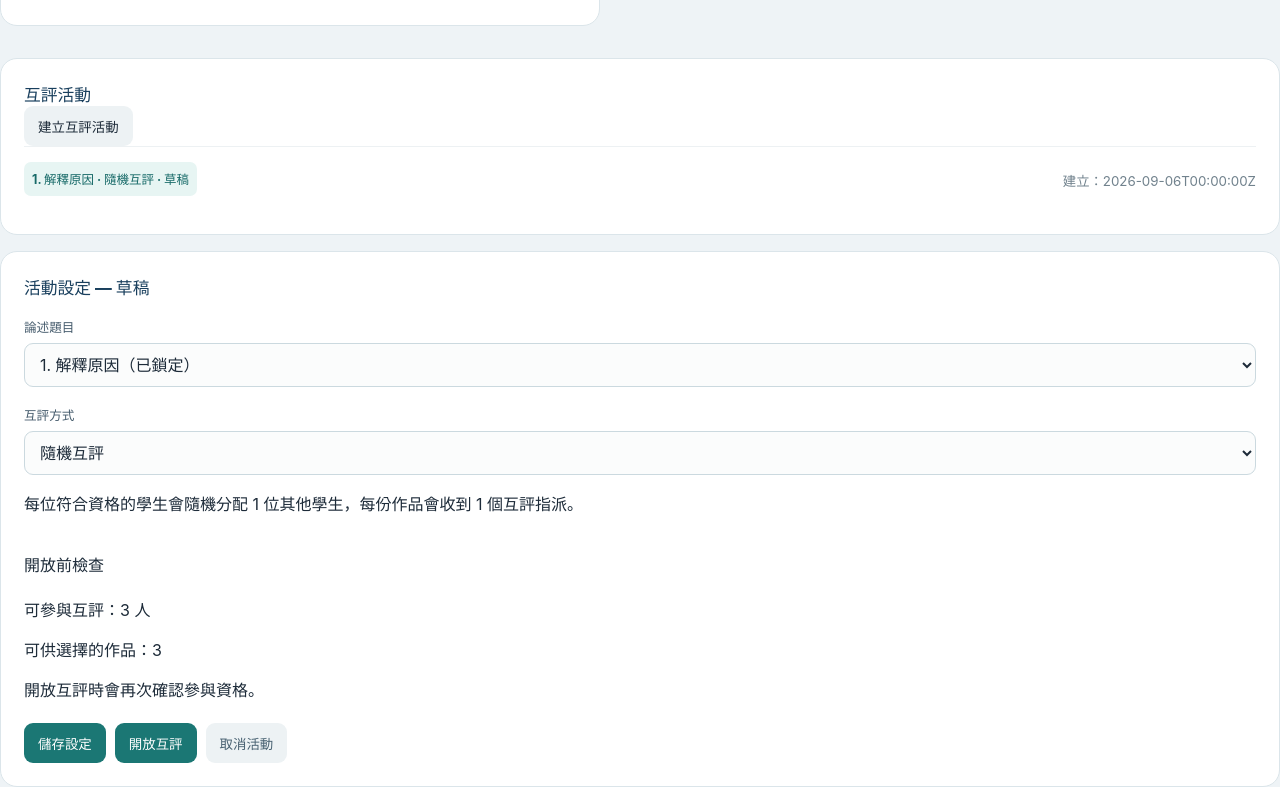
Test: Teacher Peer Review setup › cancels DRAFT and refreshes ended sessions as read-only
(page scrolled)
Expected: the dropdown labelled "互評方式" is shown, [24,431,1256,475]
What coordinates should you click on to do the following:
click the button "取消活動"
I would click on:
 (246, 743)
Its box is [206,723,287,763].
(page scrolled)
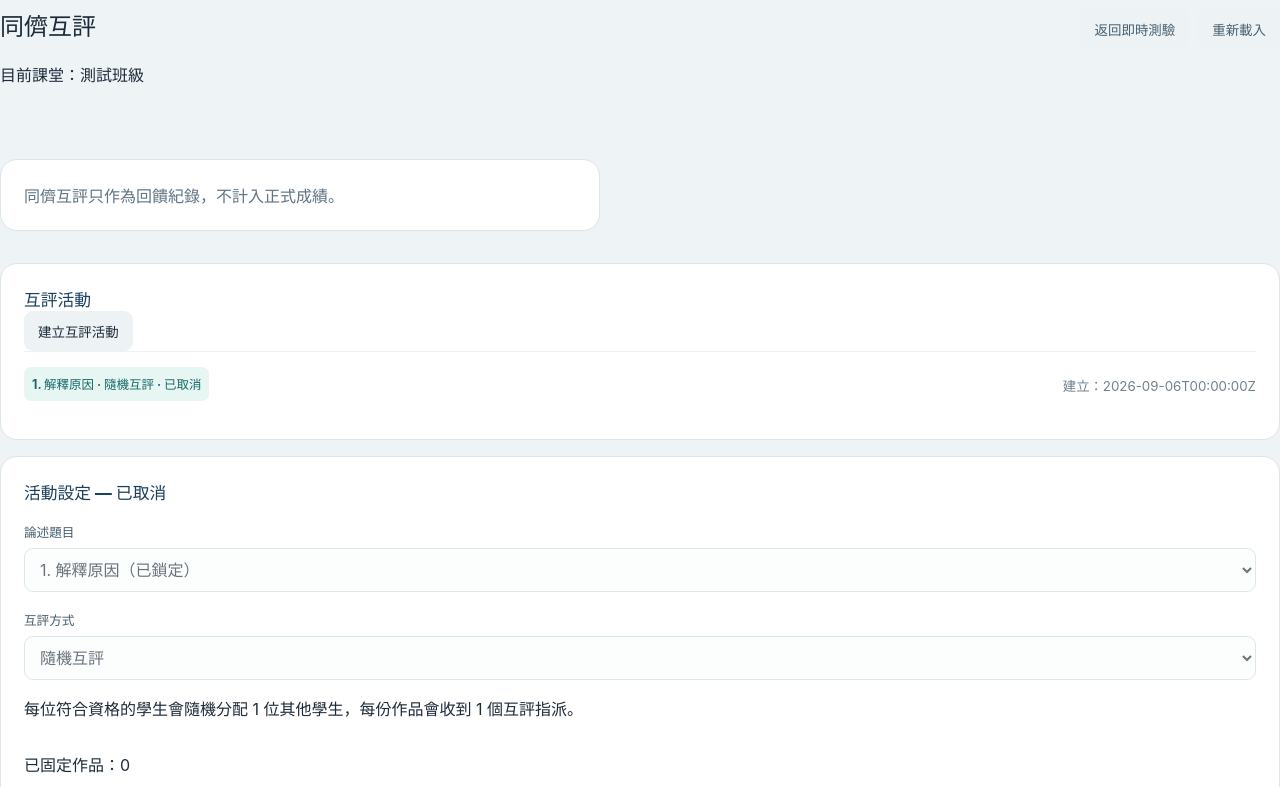
Result: the heading "活動設定 — 已取消" is shown at [24,483,166,503]
What coordinates should you click on to do the following:
click the button "重新載入"
I would click on:
 (1239, 29)
Its box is [1198,9,1279,49].
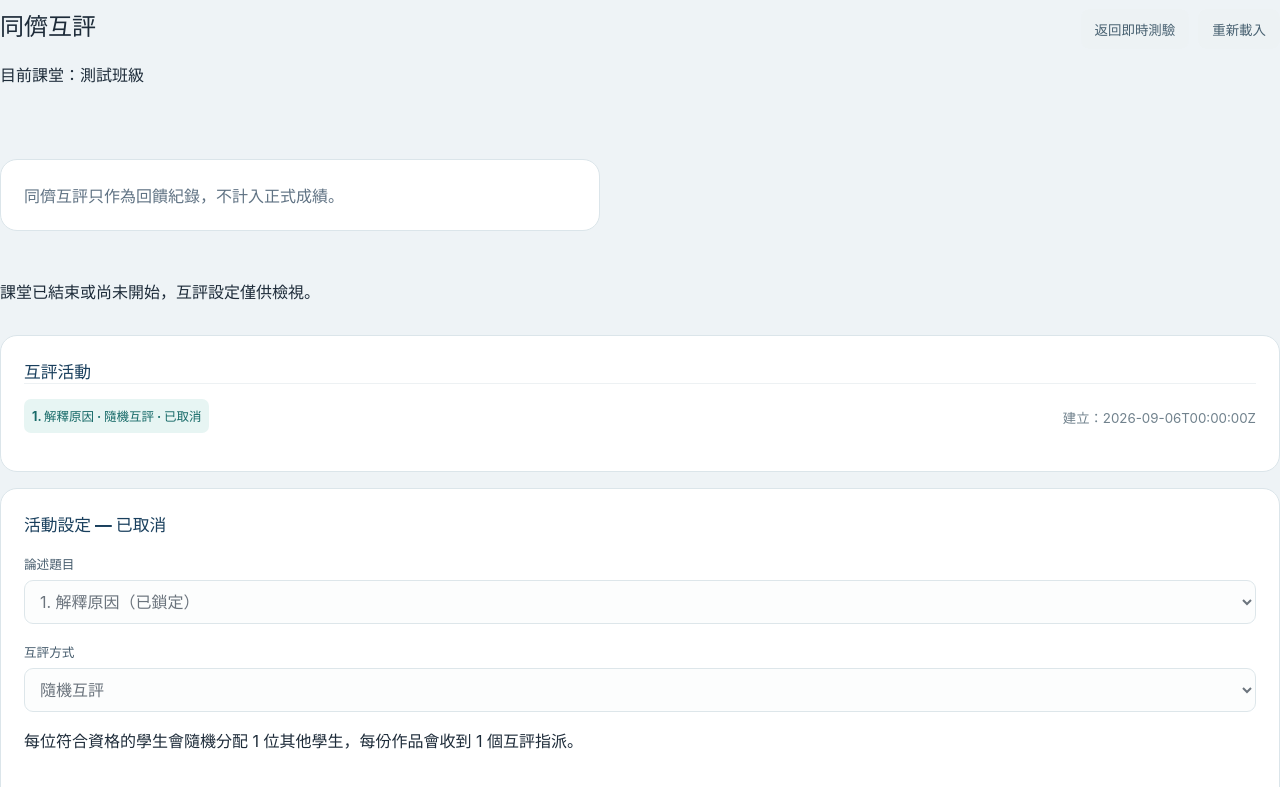
Expected: the dropdown labelled "互評方式" is disabled, [24,668,1256,712]
Result: the text "課堂已結束或尚未開始，互評設定僅供檢視。" is shown at [0,282,320,302]
Result: the button "建立互評活動" is gone
